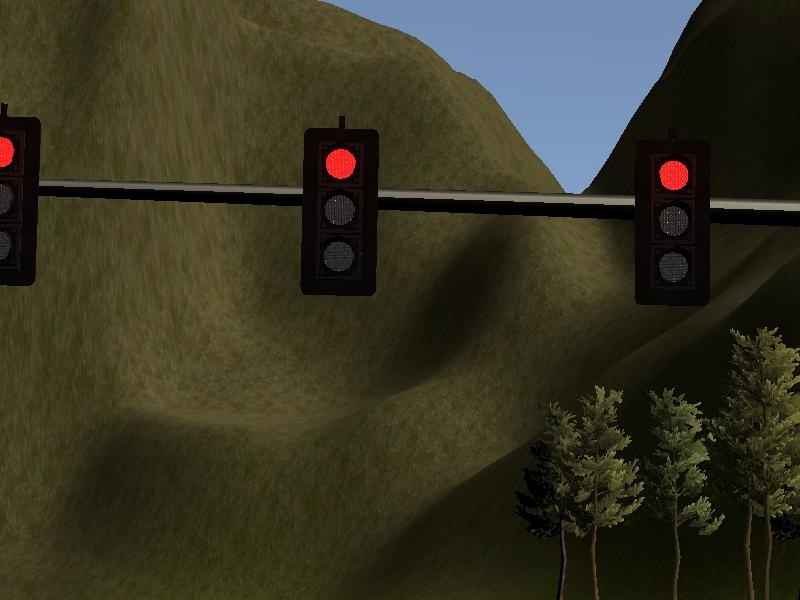red: (297, 120, 382, 301), (631, 134, 715, 309)
